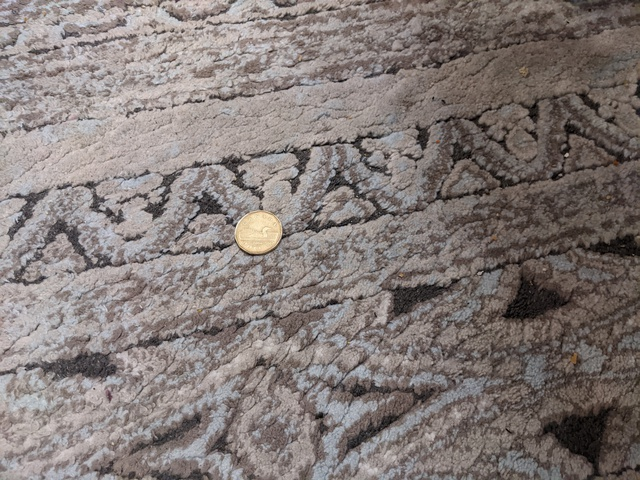loonie: (230, 201, 297, 260)
